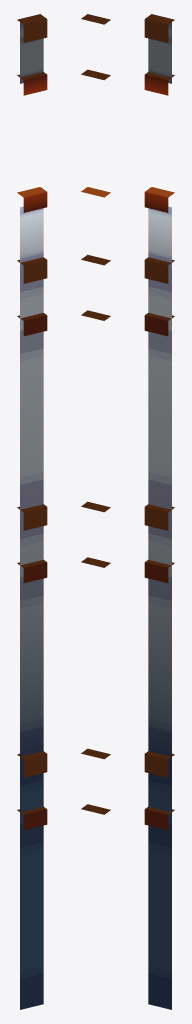
3 renders of one model, left to right at view 1: azimuth 30°, elevation 25°; view 2: azimuth 150°, elevation 25°; view 3: azimuth 330°, elevation 25°, orthographic.
Size of the model in its own units: 1 by 40 by 0.5.
Materials: 2 (2 with a texture image).
